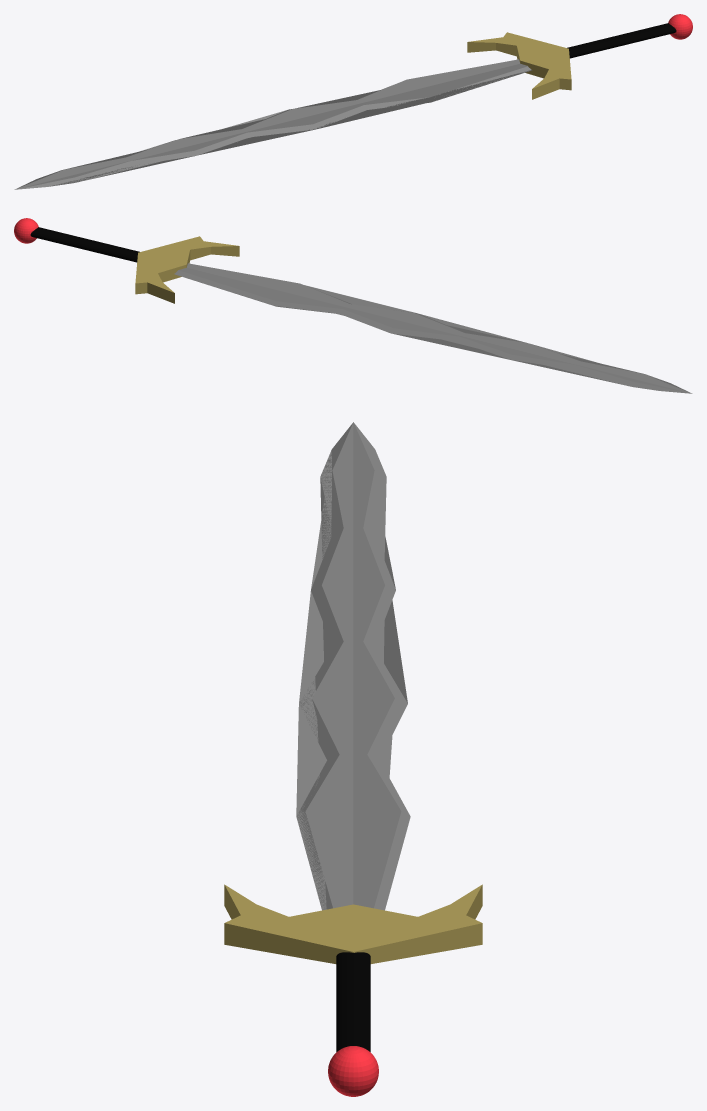
Rendered from serpent-sword.fbx.
3 views of the same model, one above another, from view 1: azimuth 30°, elevation 25°; view 2: azimuth 150°, elevation 25°; view 3: azimuth 270°, elevation 25° (orthographic). The views are drawn at different scales.
Visible parts, largest first — view 1: Walec; view 2: Walec; view 3: Walec.
Boxes of the visible parts, x1,y1,x2,y2 form: Walec: (14, 14, 692, 189); Walec: (14, 218, 692, 393); Walec: (224, 422, 482, 1096).
Bounding box in the file's own units: 1818 × 59.49 × 300.
